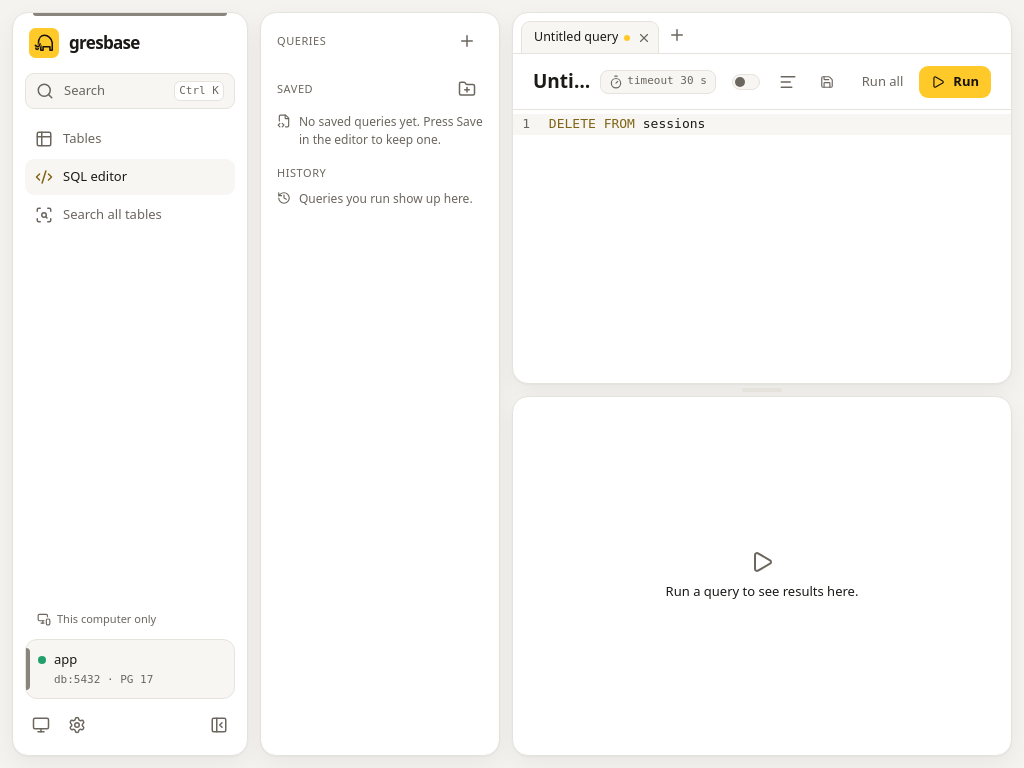
Test case: transaction mode › rolls back
The image size is (1024, 768).
Click the switch named "Transaction mode": click(746, 82) [724,66,768,98]
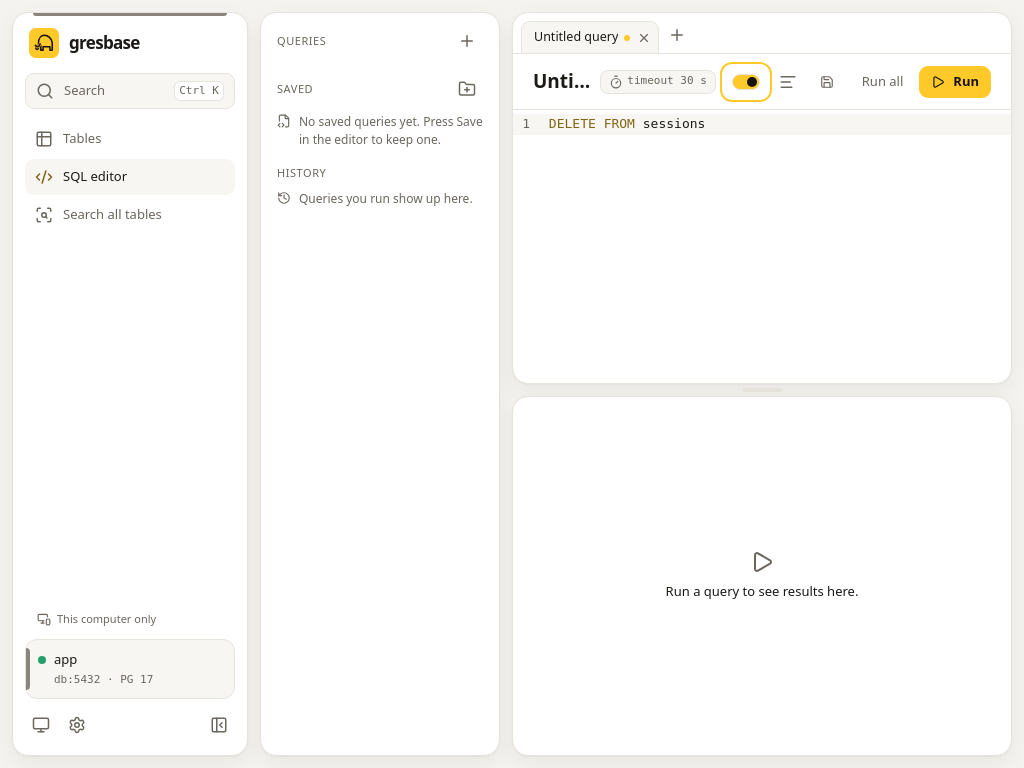
Click the button "Run": click(955, 82) [919,66,991,98]
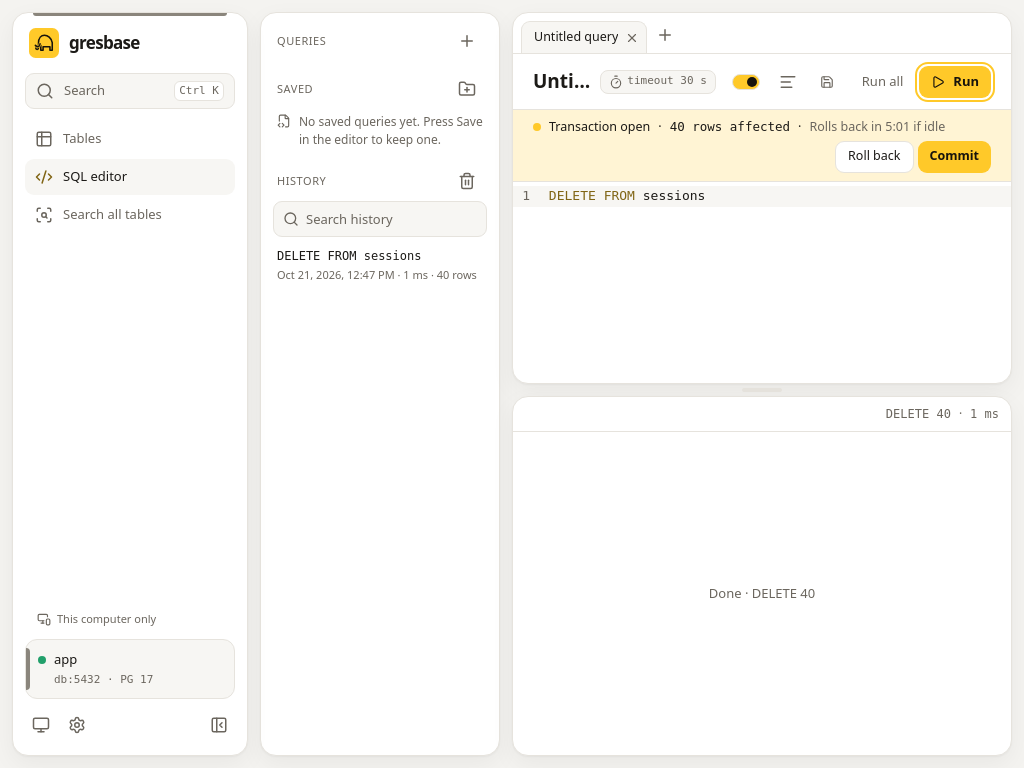
Click the button "Roll back": click(874, 157) [835,141,914,173]
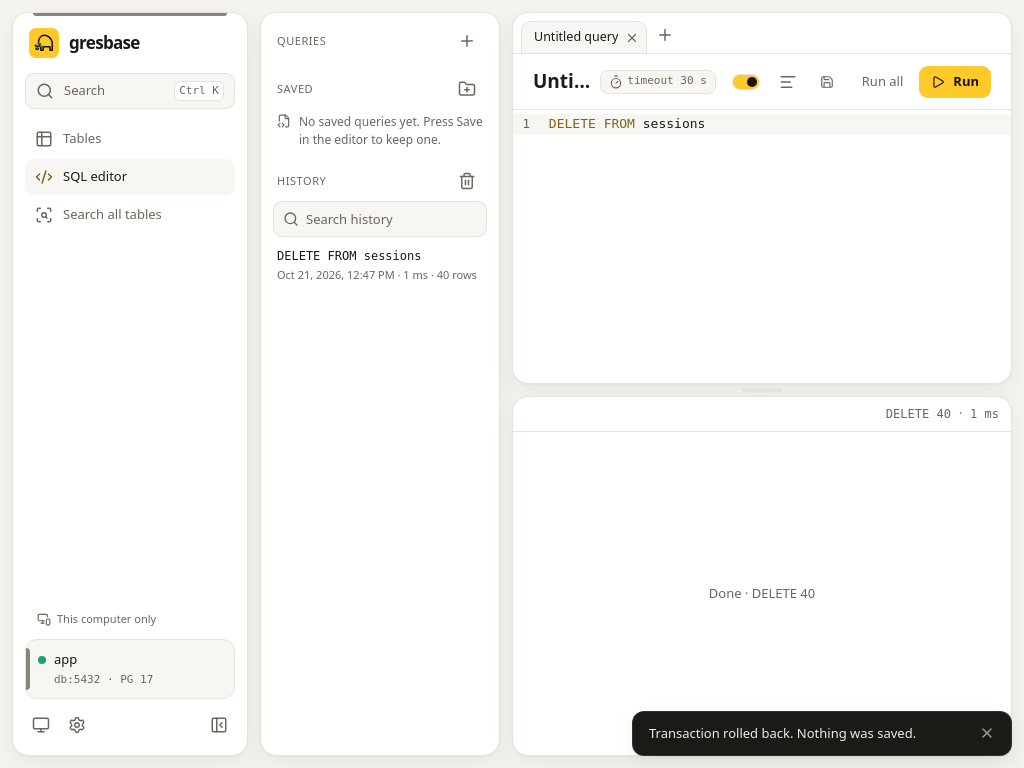
expect the text "Transaction rolled back. Nothing was saved." is shown: met, box [649,724,916,742]
